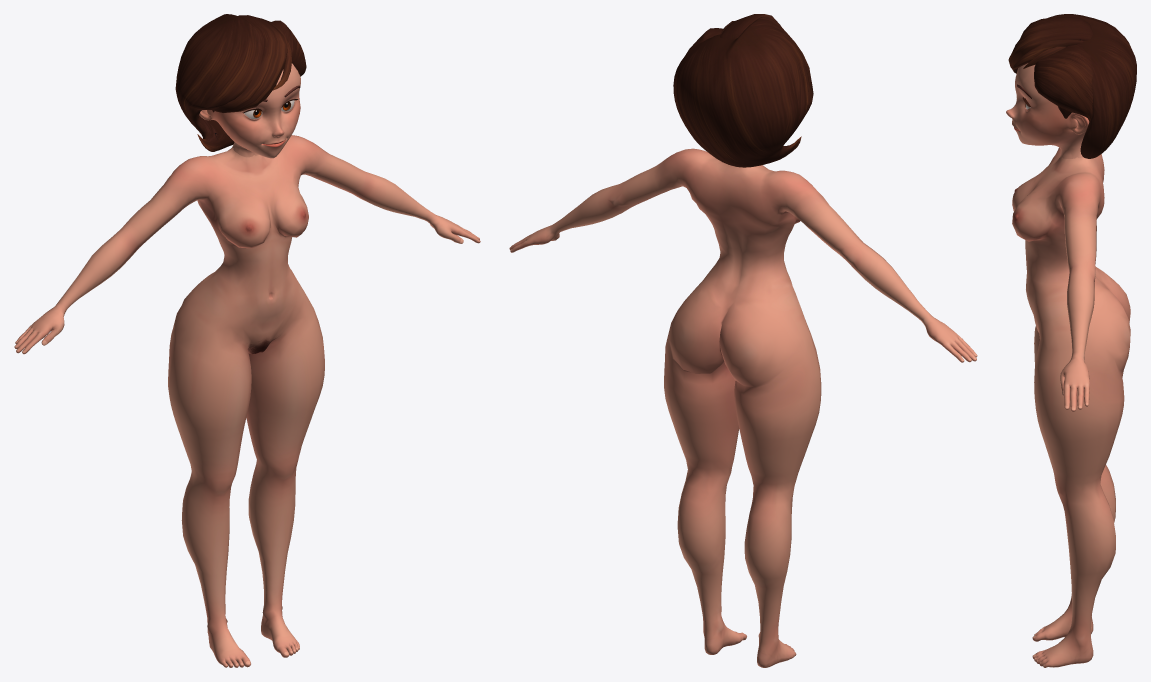
Rendered from char-helen.glb.
The picture shows the model from 3 angles, left to right: view 1: azimuth 30°, elevation 25°; view 2: azimuth 150°, elevation 25°; view 3: azimuth 270°, elevation 25°; orthographic projection.
Parts seen in each view (by area): view 1: Body_2, Hair_9, Head_10; view 2: Body_2, Hair_9; view 3: Body_2, Hair_9, Head_10.
Part boxes in pixels (x1,y1,x2,y2): Body_2: (14,135,480,667); Hair_9: (175,14,306,151); Head_10: (199,63,300,158); Body_2: (509,148,977,667); Hair_9: (673,14,813,167); Body_2: (1012,148,1130,667); Hair_9: (1008,14,1136,158); Head_10: (1006,63,1089,158).
Size of the model in its own units: 16.52 by 21.58 by 4.05.
8 materials, 8 textured.
